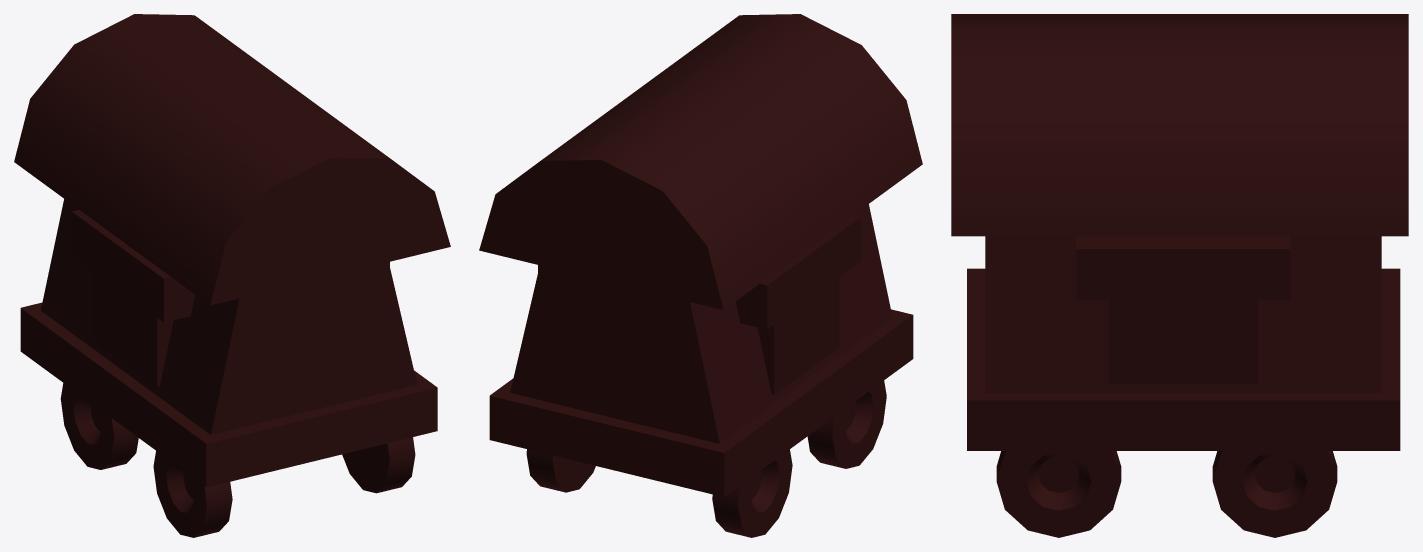
Rendered from TrainCar.fbx.
3 views of the same model, side by side, from view 1: azimuth 30°, elevation 25°; view 2: azimuth 150°, elevation 25°; view 3: azimuth 270°, elevation 25° (orthographic). The views are drawn at different scales.
Visible parts, largest first — view 1: TrainCar; view 2: TrainCar; view 3: TrainCar.
Part boxes in pixels (x1,y1,x2,y2): TrainCar: (14, 14, 450, 537); TrainCar: (479, 14, 922, 537); TrainCar: (951, 14, 1408, 537).
Bounding box in the file's own units: 79.42 × 122 × 112.
